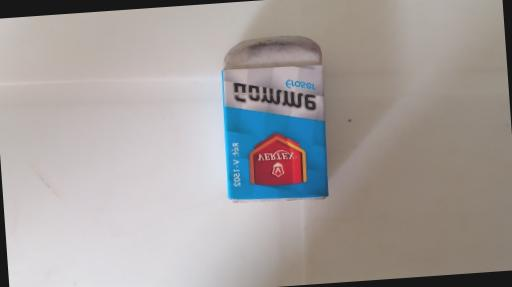Eraser: (218, 34, 332, 207)
